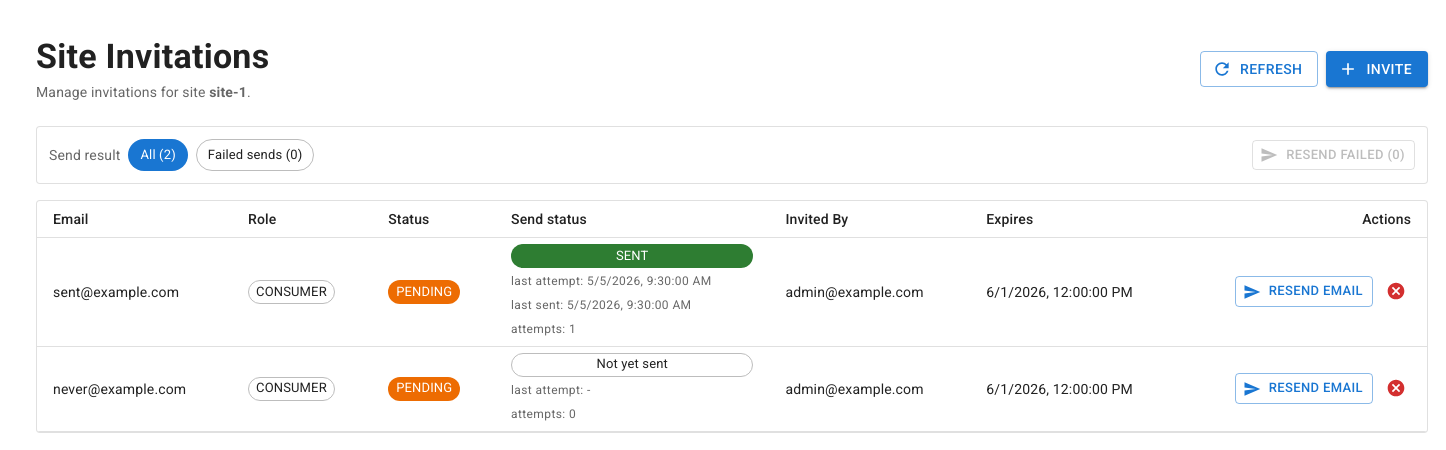
Test: SiteInvitationsPage send-status filter chips › shows a filter-specific empty state when no rows have failed sends
Expected: the text "sent@example.com" is shown, x1=53 y1=284 x2=179 y2=300
Click the button with aria-label "Show failed-send invitations (0)": (255, 155) x1=196 y1=139 x2=314 y2=171
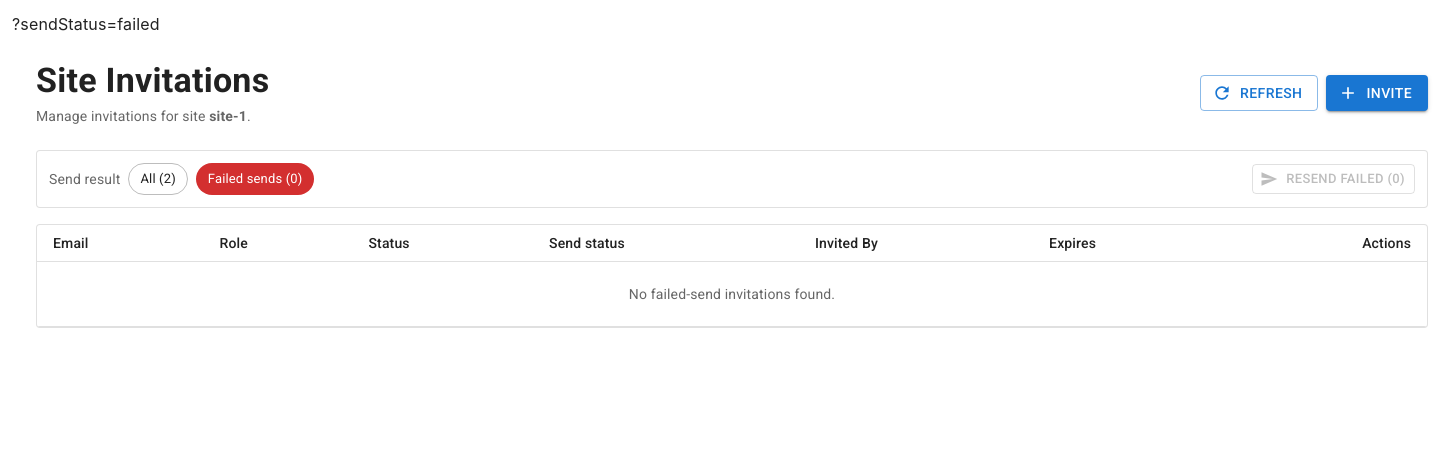
Expected: the text "No failed-send invitations found." is shown, x1=629 y1=286 x2=835 y2=302
Expected: the text "sent@example.com" is gone
Expected: the text "never@example.com" is gone
